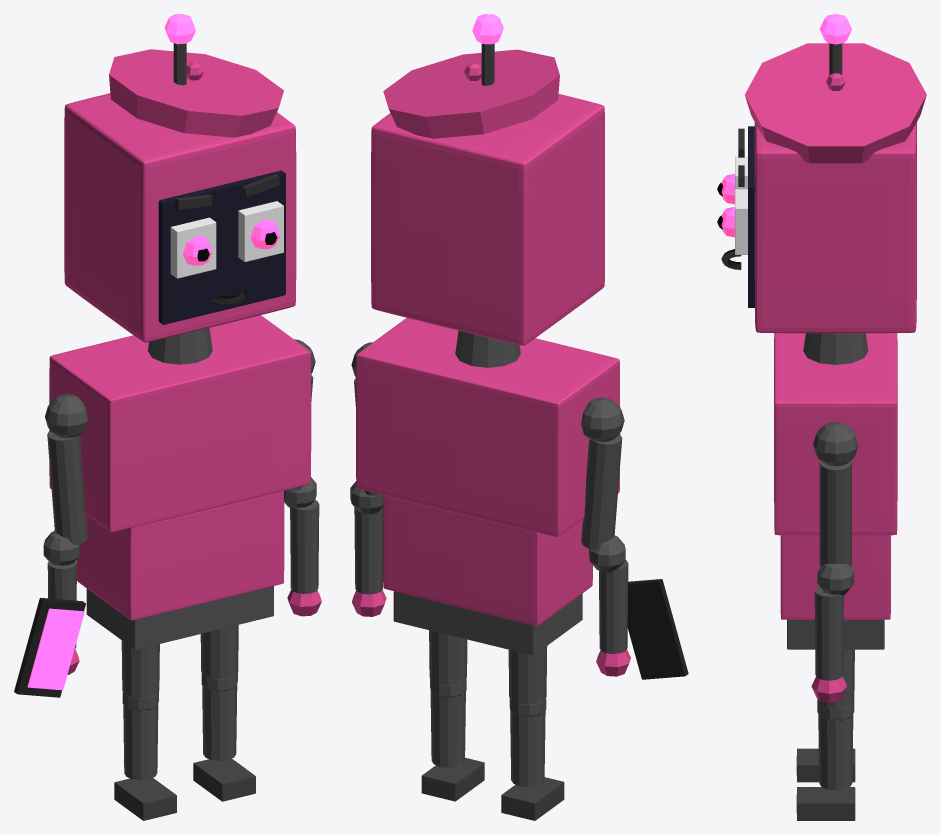
File: pixel.glb
3 views of the same model, side by side, from view 1: azimuth 30°, elevation 25°; view 2: azimuth 150°, elevation 25°; view 3: azimuth 270°, elevation 25° (orthographic).
Parts seen in each view (by area): view 1: pixel_chest, pixel_head, pixel_waist, pixel_beret, pixel_face_plate, pixel_hips, pixel_l_upper_arm, pixel_tablet_screen, pixel_r_forearm, pixel_r_calf, pixel_l_calf, pixel_l_foot (+16 smaller); view 2: pixel_head, pixel_chest, pixel_waist, pixel_beret, pixel_hips, pixel_tablet, pixel_l_upper_arm, pixel_r_calf, pixel_l_calf, pixel_l_forearm, pixel_r_forearm, pixel_l_thigh (+10 smaller); view 3: pixel_head, pixel_chest, pixel_beret, pixel_waist, pixel_r_upper_arm, pixel_r_forearm, pixel_r_calf, pixel_hips, pixel_r_foot, pixel_neck, pixel_r_shoulder, pixel_face_plate (+8 smaller).
Part boxes in pixels (box(x1,y1,x2,y2)): pixel_chest: box(49, 315, 311, 532); pixel_head: box(64, 93, 296, 342); pixel_waist: box(76, 491, 284, 620); pixel_beret: box(109, 49, 283, 137); pixel_face_plate: box(158, 170, 285, 324); pixel_hips: box(86, 586, 273, 649); pixel_l_upper_arm: box(47, 430, 87, 544); pixel_tablet_screen: box(27, 608, 84, 690); pixel_r_forearm: box(290, 500, 319, 593); pixel_r_calf: box(202, 684, 237, 760); pixel_l_calf: box(123, 704, 158, 780); pixel_l_foot: box(114, 778, 176, 820); pixel_head: box(371, 94, 604, 345); pixel_chest: box(356, 318, 620, 536); pixel_waist: box(383, 495, 592, 625); pixel_beret: box(383, 49, 559, 138); pixel_hips: box(393, 591, 582, 655); pixel_tablet: box(627, 579, 688, 679); pixel_l_upper_arm: box(581, 434, 622, 549); pixel_r_calf: box(430, 691, 465, 767); pixel_l_calf: box(510, 709, 545, 786); pixel_l_forearm: box(599, 560, 628, 653); pixel_r_forearm: box(354, 507, 383, 594); pixel_l_thigh: box(508, 646, 547, 704); pixel_head: box(754, 122, 916, 333); pixel_chest: box(774, 333, 897, 535); pixel_beret: box(745, 43, 926, 163); pixel_waist: box(780, 535, 890, 619); pixel_r_upper_arm: box(819, 460, 851, 567); pixel_r_forearm: box(814, 586, 843, 680); pixel_r_calf: box(818, 714, 853, 790); pixel_hips: box(787, 619, 884, 649); pixel_r_foot: box(796, 787, 855, 820); pixel_neck: box(803, 333, 868, 364); pixel_r_shoulder: box(813, 422, 858, 466); pixel_face_plate: box(748, 126, 754, 307).
Size of the model in its own units: 1.13 by 2.64 by 0.645.
